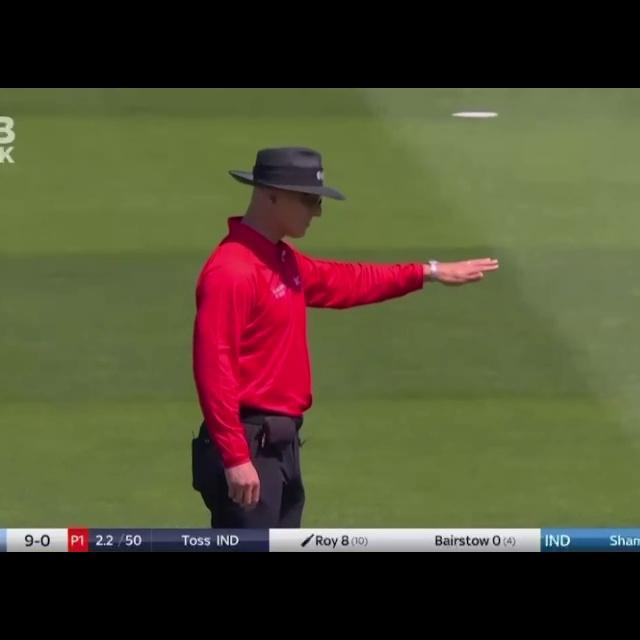umpire: (172, 125, 518, 524)
